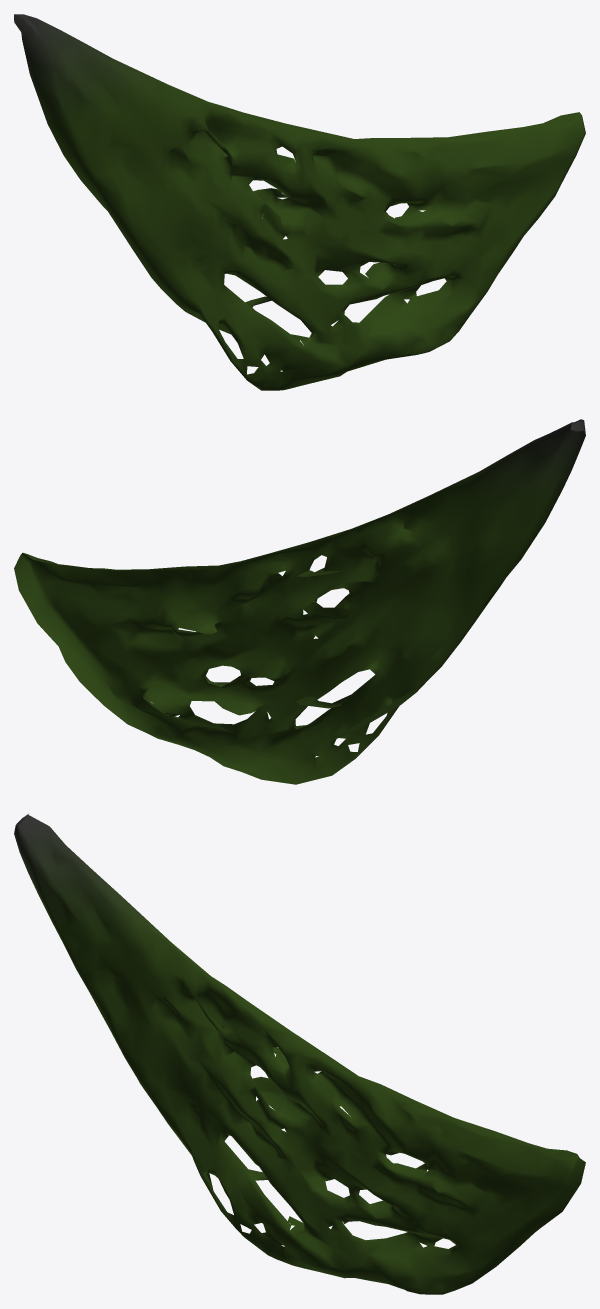
Rendered from SM_Sewer_Slime_01.fbx.
The picture shows the model from 3 angles, top to bottom: view 1: azimuth 30°, elevation 25°; view 2: azimuth 150°, elevation 25°; view 3: azimuth 330°, elevation 25°; orthographic projection. The views are drawn at different scales.
Parts seen in each view (by area): view 1: attribadjustcolor11; view 2: attribadjustcolor11; view 3: attribadjustcolor11.
Part boxes in pixels (x1,y1,x2,y2): attribadjustcolor11: (14,14,585,390); attribadjustcolor11: (14,419,585,784); attribadjustcolor11: (14,814,585,1294).
Size of the model in its own units: 352 by 260 by 53.74.
